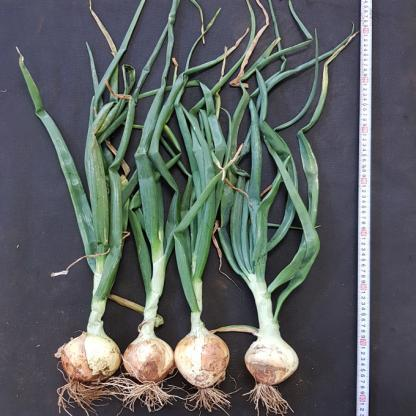onion: (245, 332, 306, 394), (124, 331, 178, 386), (179, 335, 239, 383), (56, 334, 113, 382)
